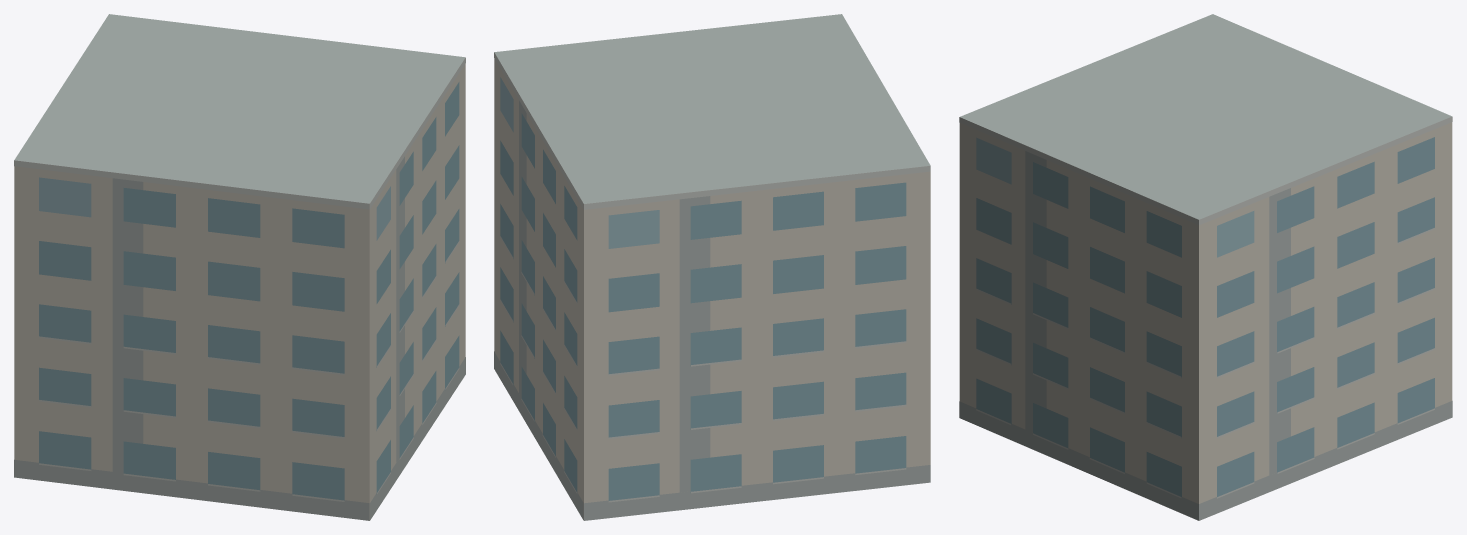
File: survey-upis-32881747.glb
The picture shows the model from 3 angles, left to right: view 1: azimuth 30°, elevation 25°; view 2: azimuth 150°, elevation 25°; view 3: azimuth 270°, elevation 25°; orthographic projection. The views are drawn at different scales.
Parts seen in each view (by area): view 1: survey-upis-32881747.tmp; view 2: survey-upis-32881747.tmp; view 3: survey-upis-32881747.tmp.
Boxes of the visible parts, left/top/right/bottom form: survey-upis-32881747.tmp: left=14, top=14, right=465, bottom=520; survey-upis-32881747.tmp: left=494, top=14, right=930, bottom=520; survey-upis-32881747.tmp: left=959, top=14, right=1452, bottom=520.
Size of the model in its own units: 19.36 by 13.2 by 19.6.
